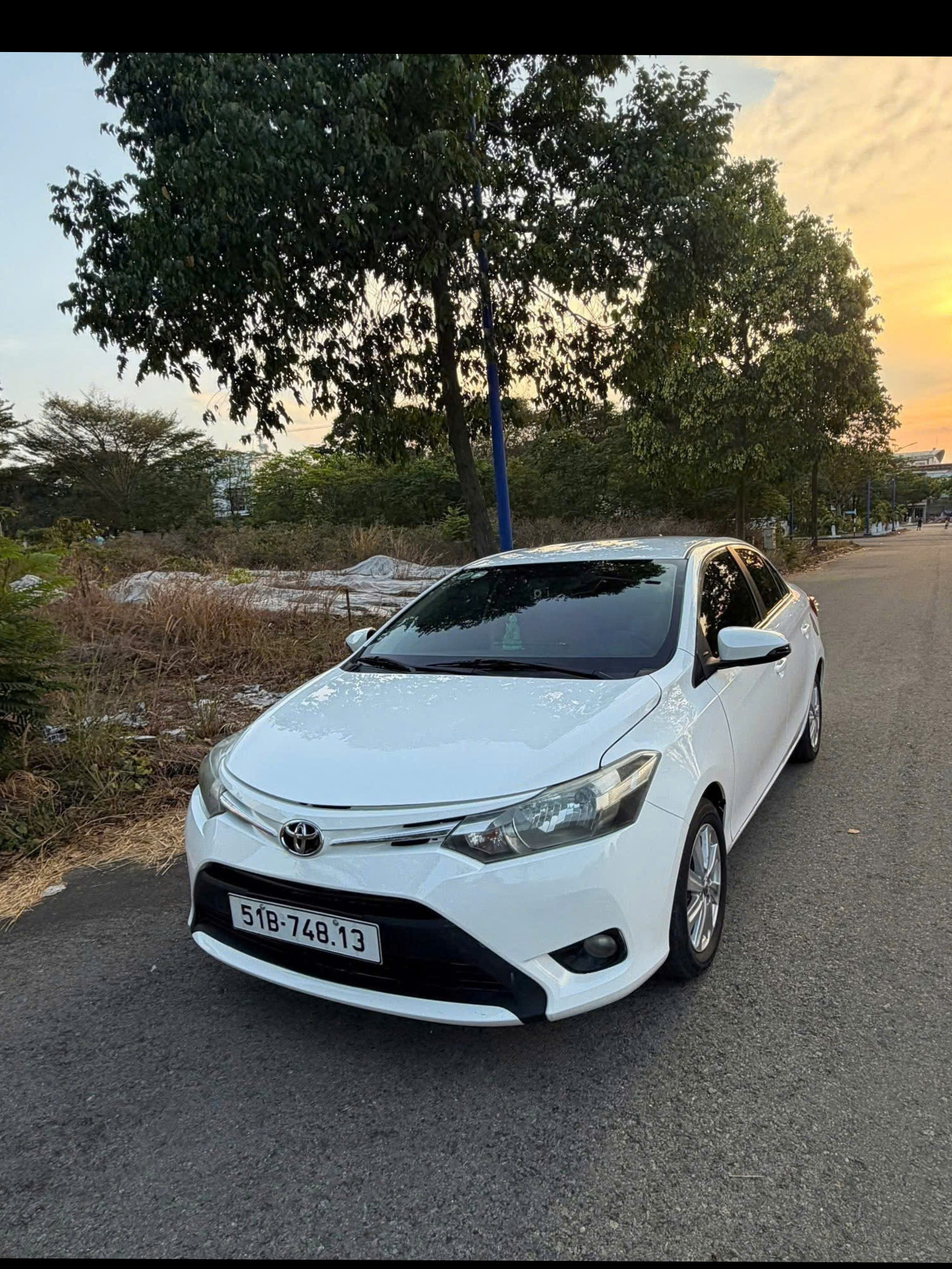Bien-so: (241, 915, 388, 980)
